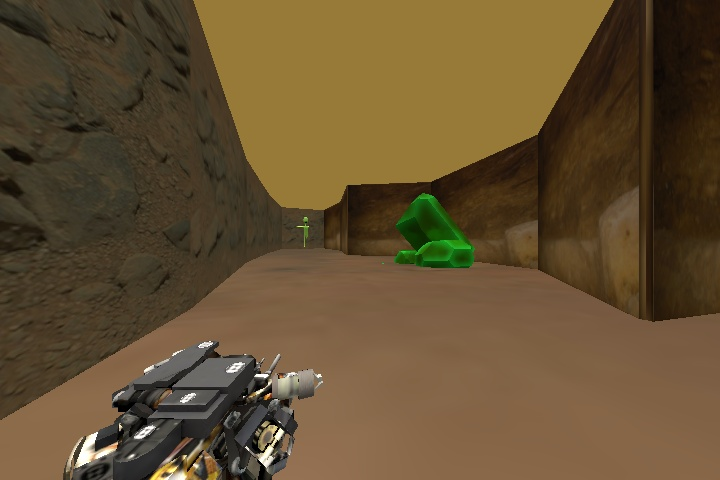alien: (295, 215, 312, 250)
gem: (391, 194, 475, 270)
